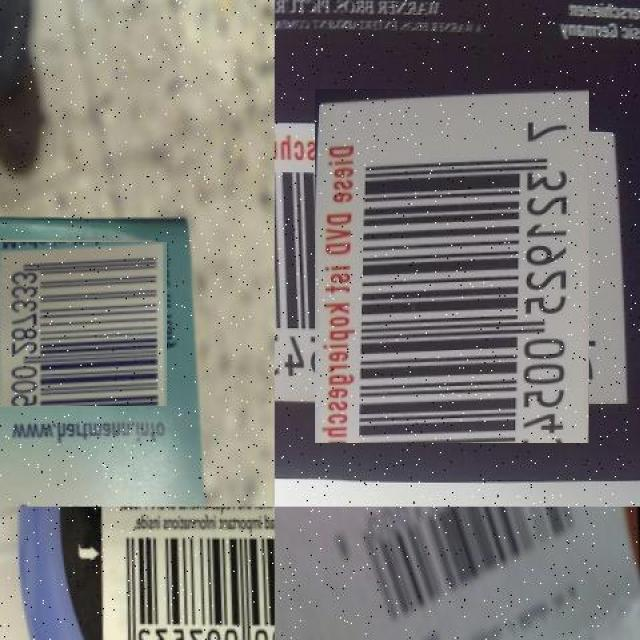Barcode: (295, 108, 609, 423), (320, 507, 598, 640), (0, 241, 165, 408), (117, 531, 274, 640)
